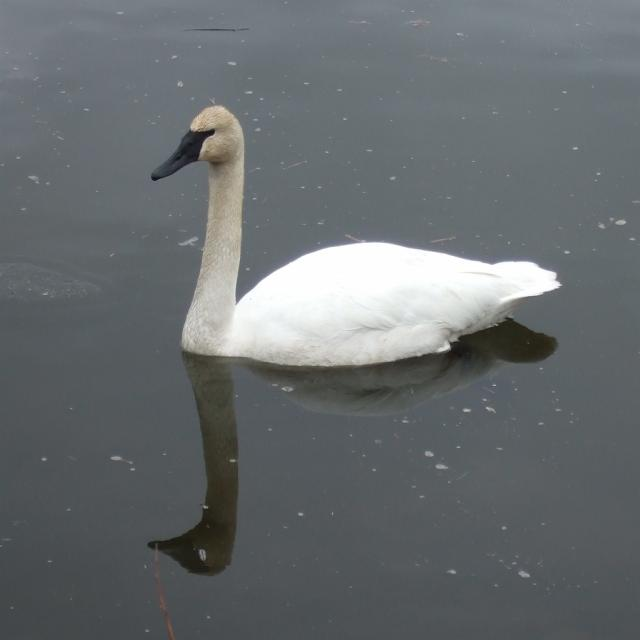bird: (147, 108, 566, 370)
